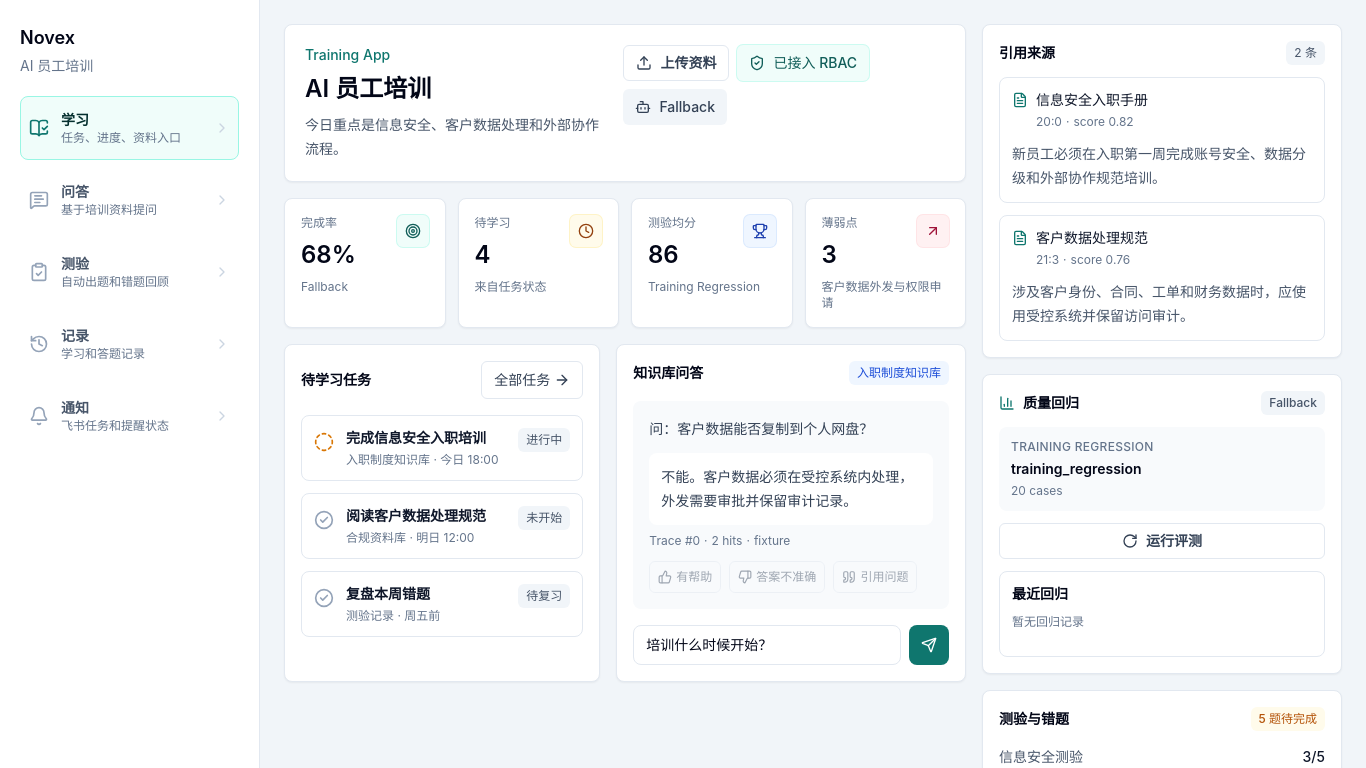
Test: Training home page › submits RAG answer feedback for the latest live trace
Step 1. Click the button named "发送问题" → (929, 645), box [909, 625, 949, 665]
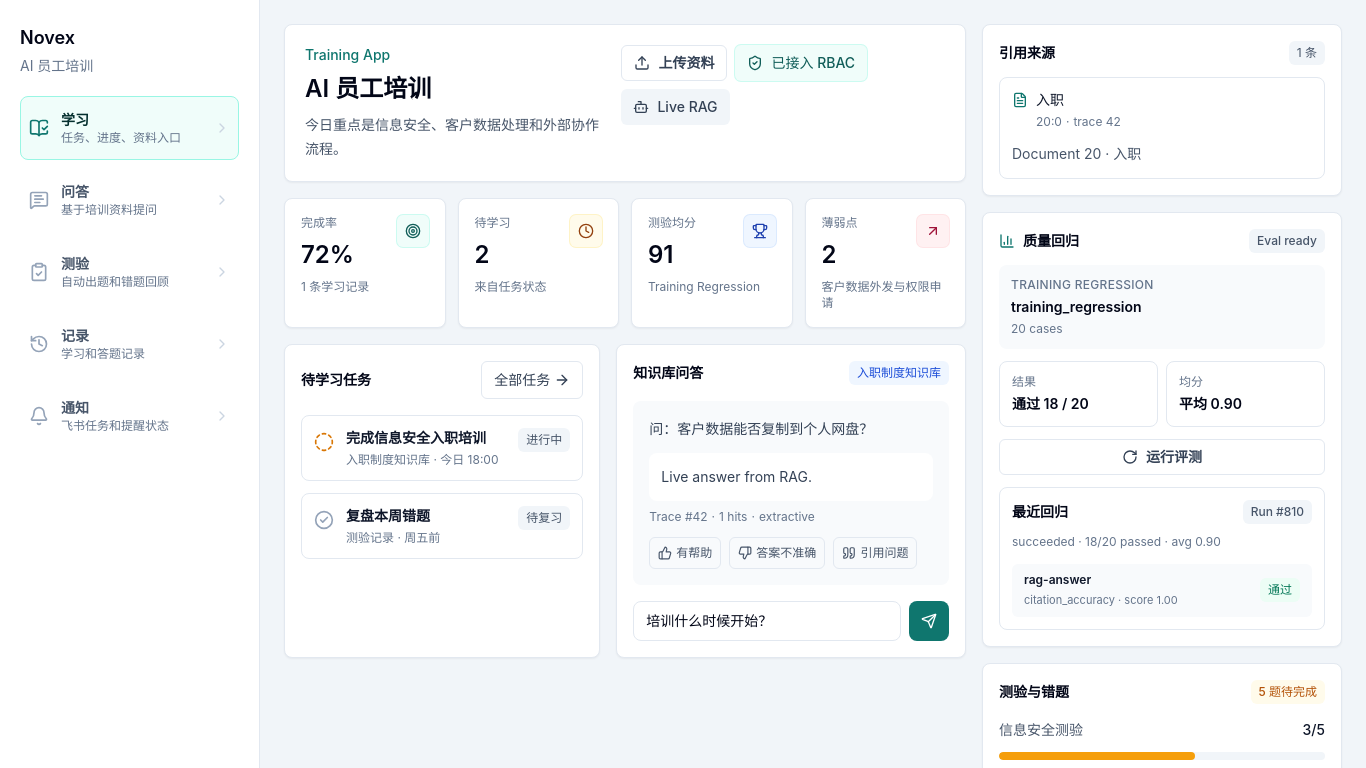
Expected: the text "Live answer from RAG." is shown, [649, 453, 933, 501]
Step 2. Click the button "答案不准确" → (777, 553), box [729, 537, 825, 569]
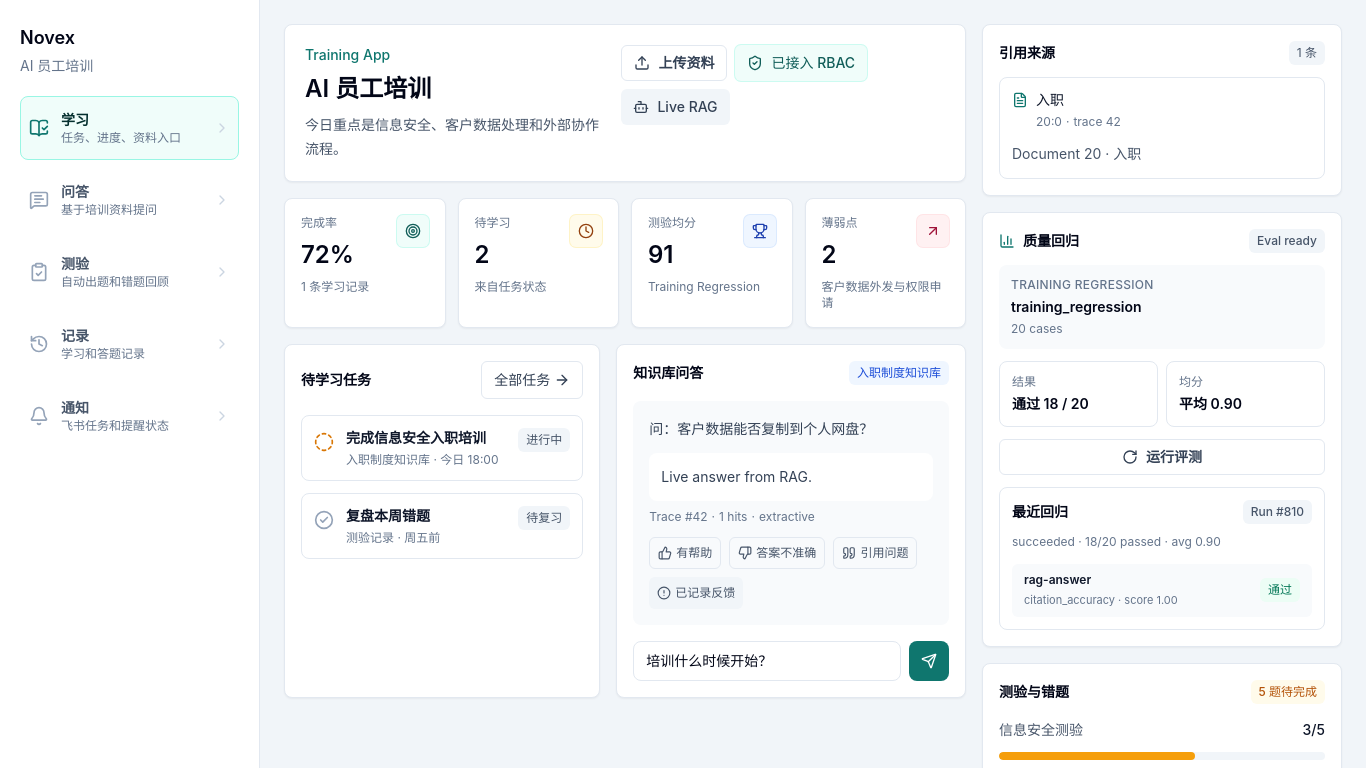
Expected: the text "已记录反馈" is shown, [649, 577, 743, 609]
